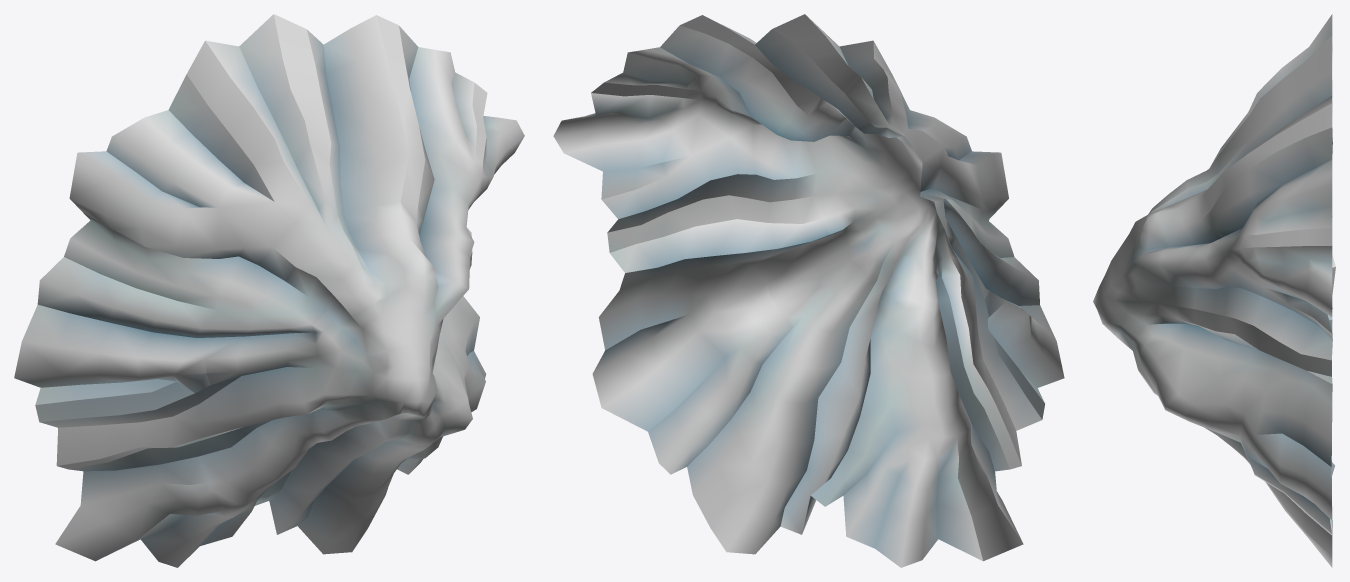
The model's file is Mountain_SnowB.glb.
3 renders of one model, left to right at view 1: azimuth 30°, elevation 25°; view 2: azimuth 150°, elevation 25°; view 3: azimuth 270°, elevation 25°, orthographic. The views are drawn at different scales.
Parts seen in each view (by area): view 1: MeshNode_0; view 2: MeshNode_0; view 3: MeshNode_0.
Part boxes in pixels (x1,y1,x2,y2): MeshNode_0: [14, 14, 524, 567]; MeshNode_0: [553, 14, 1064, 567]; MeshNode_0: [1093, 14, 1335, 567].
Size of the model in its own units: 312 by 325 by 144.
